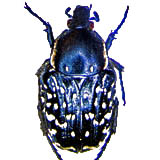Oxythyrea_albopicta: (19, 1, 130, 159)
